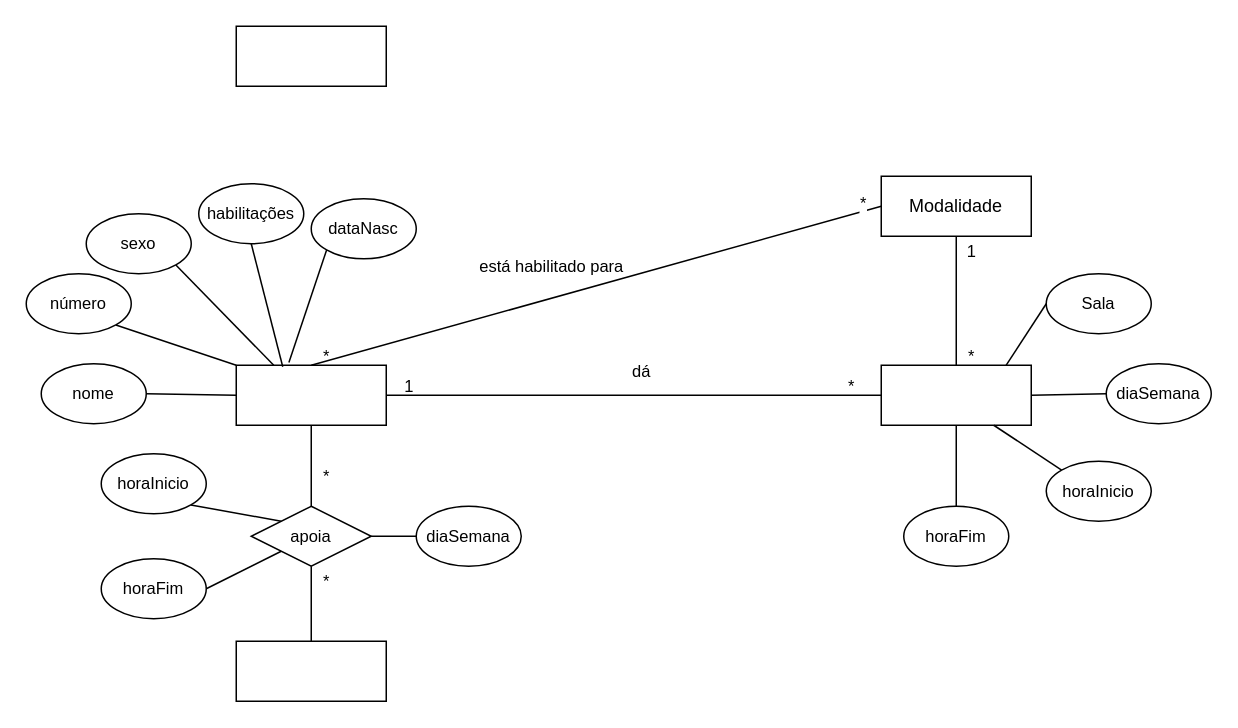
Image size: 1238x728. Some labels were removed from this diagram. The centre of each missing label's shape, as x and y in pixels:
"Aula" belongs at point (955, 394).
"Cliente" belongs at point (310, 55).
"Musculação" belongs at point (310, 670).
"Professor" belongs at point (310, 394).
